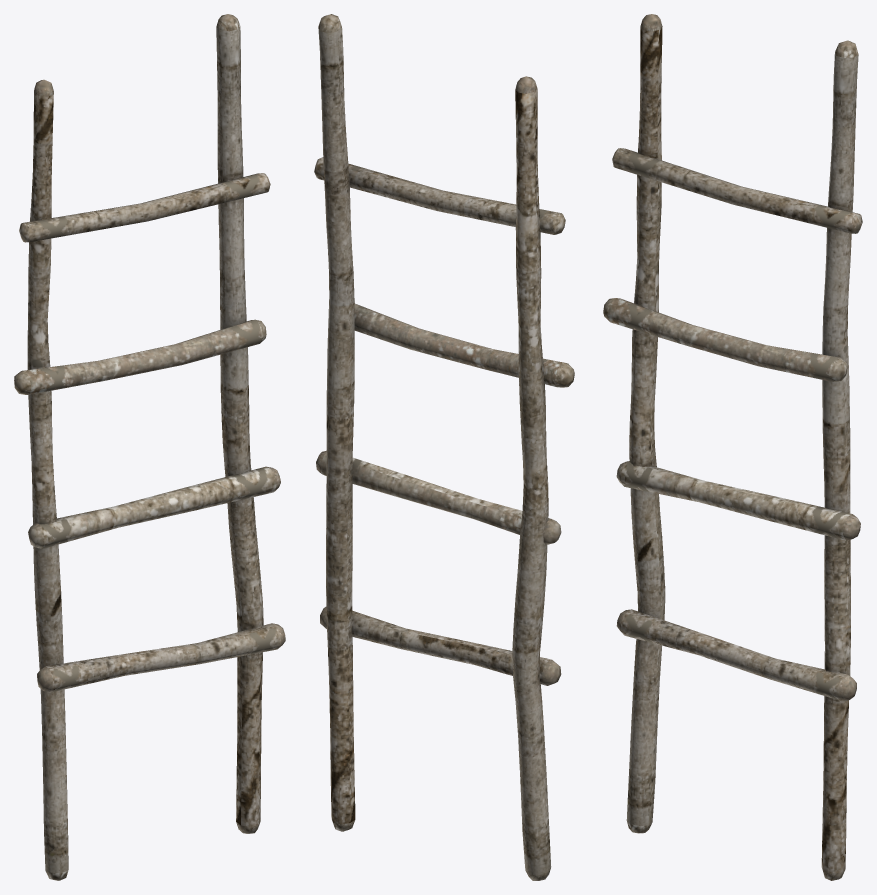
File: ladder_1.glb
The picture shows the model from 3 angles, left to right: view 1: azimuth 30°, elevation 25°; view 2: azimuth 150°, elevation 25°; view 3: azimuth 330°, elevation 25°; orthographic projection. The views are drawn at different scales.
Parts seen in each view (by area): view 1: ladder_1; view 2: ladder_1; view 3: ladder_1.
Boxes of the visible parts, bbox=[...] form: ladder_1: bbox=[14, 14, 285, 880]; ladder_1: bbox=[314, 14, 574, 880]; ladder_1: bbox=[603, 14, 862, 880].
Size of the model in its own units: 0.8765 by 2.64 by 0.2119.
Materials: 1 (1 with a texture image).
